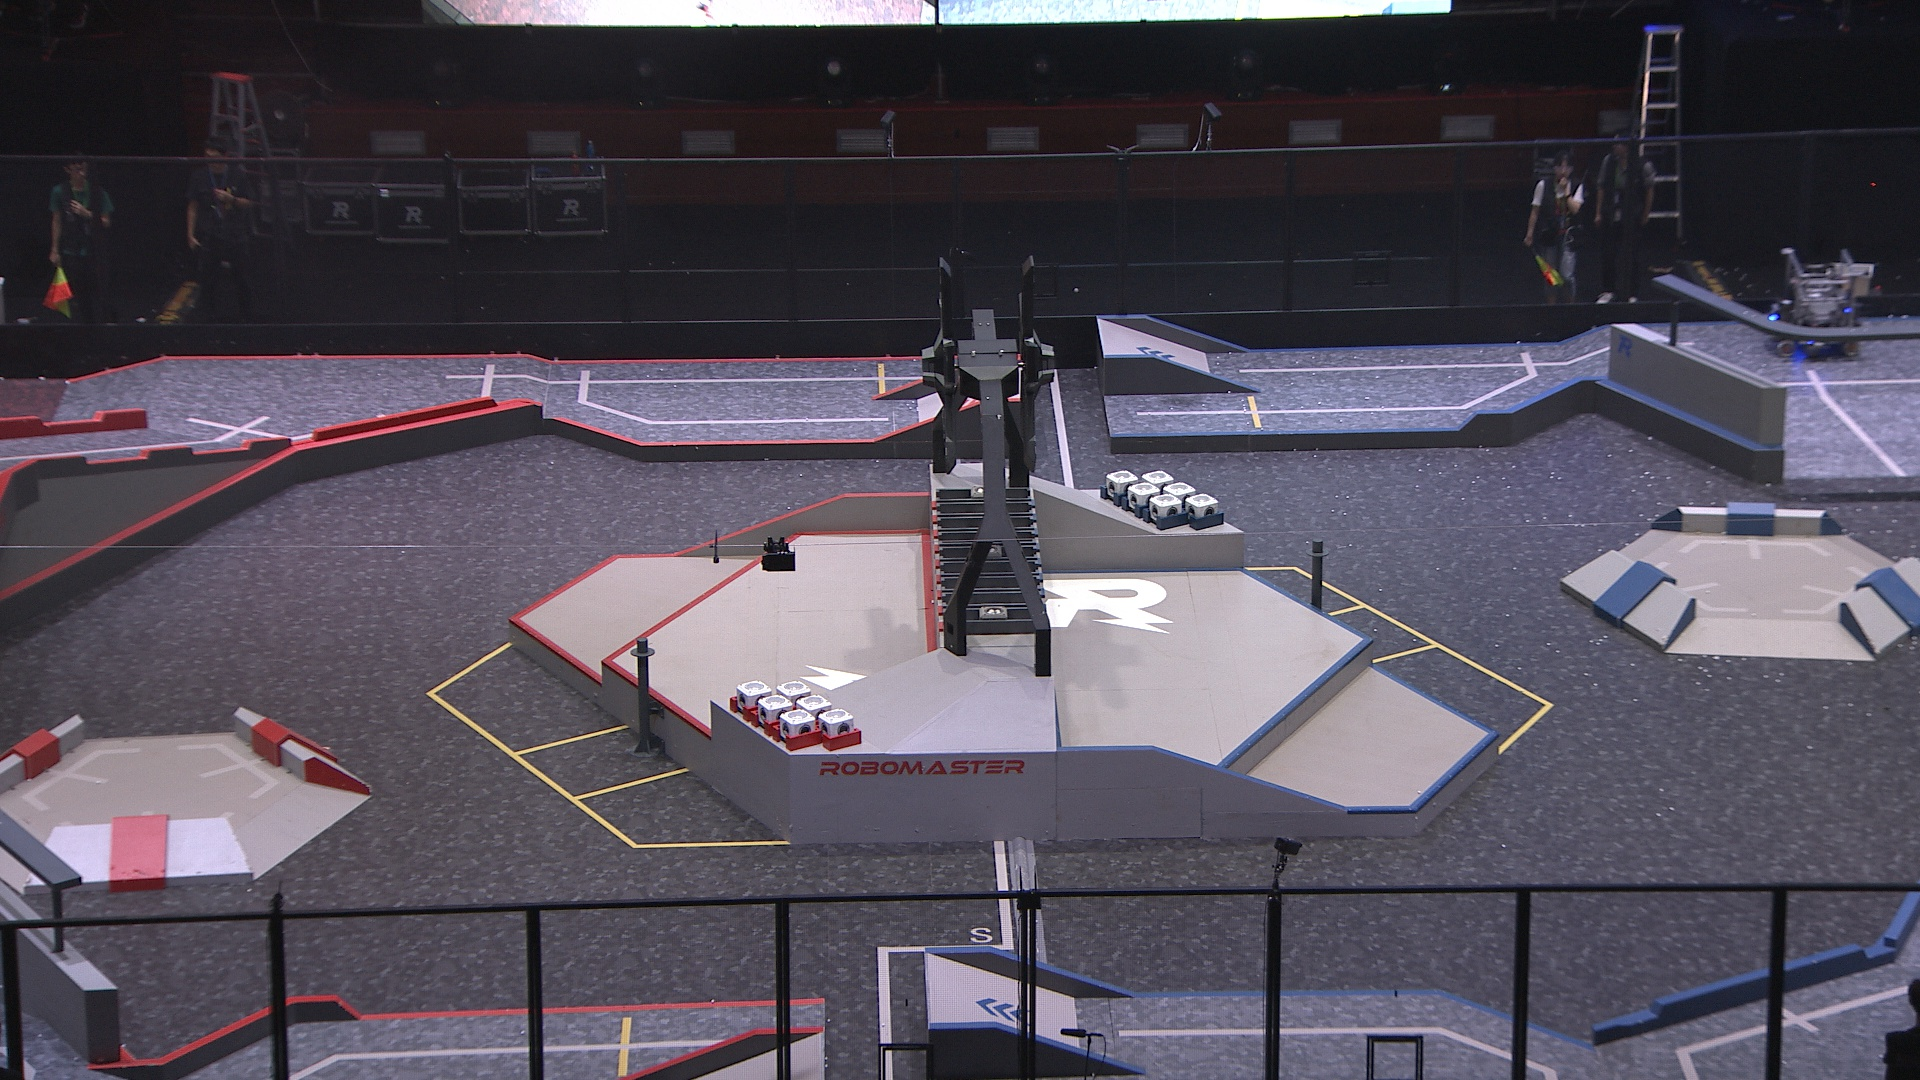car: (1762, 245, 1865, 363)
